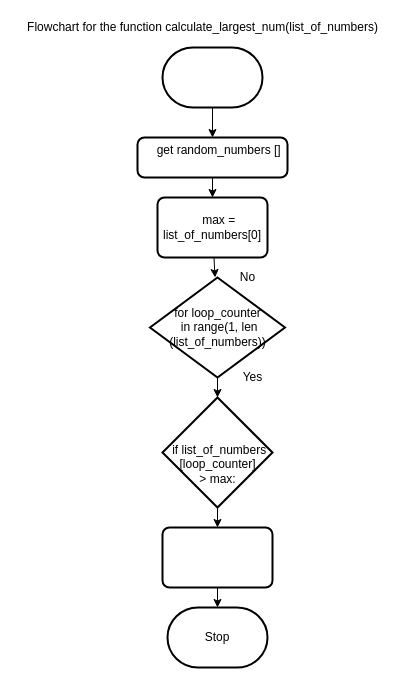
Some shapes in this 404 by 685 pixel diagram are drawn without their labels. Each missing label, with the centre of its shape:
max = list_of_numbers [loop_counter]: point (217, 557)
Start: point (212, 77)
